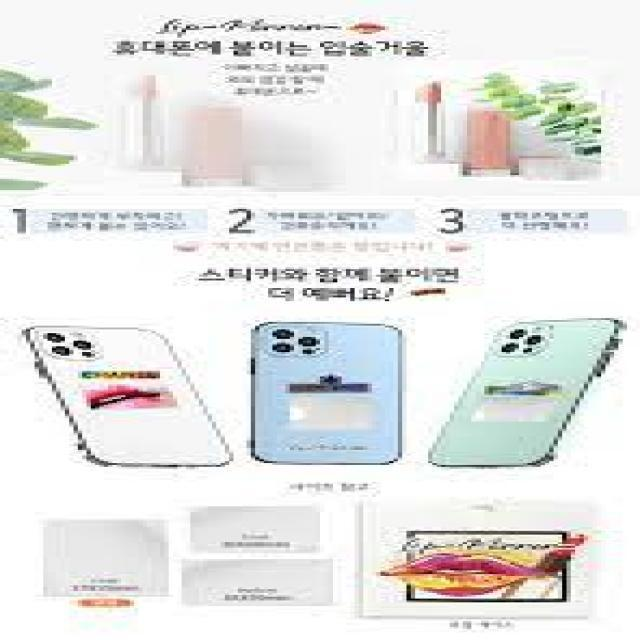Phone: (424, 318, 628, 470), (22, 325, 232, 471), (248, 321, 410, 466)
